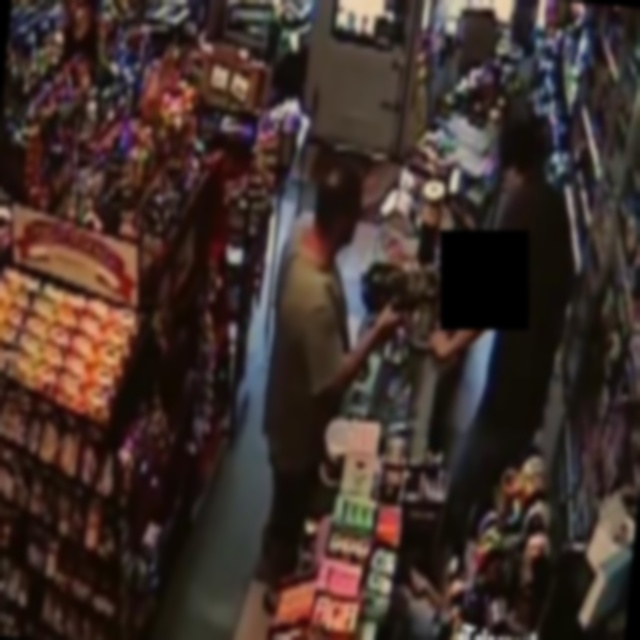gun: (384, 279, 436, 319)
